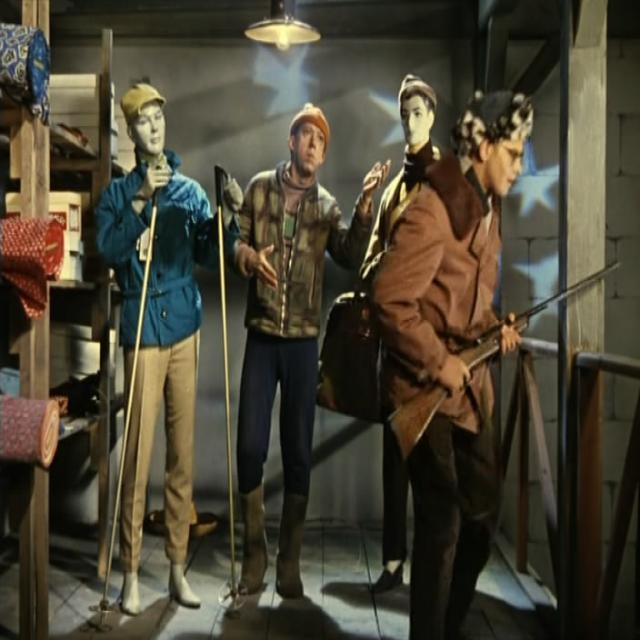gun-knife-thesis - v11 Yolov5 augmented: (373, 244, 629, 458)
